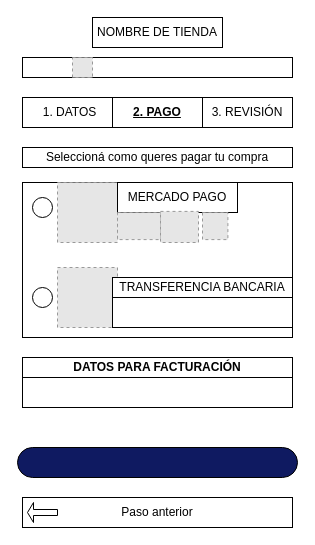
Image size: 315x545. Some labels were removed from this diagram. Grey dashed boxes stand in for pictures. The shapes that lost their labels are listed below. From the top down, each one's box as (x1, y1, x2, y2) in pixels, then its label:
(22, 56, 292, 78): VER MI COMPRA
(112, 296, 292, 328): Al finalizar te mostraremos los datos bancarios para pagar
(22, 376, 292, 408): Utilizar mis datos de envío como datos de facturación
(16, 446, 298, 478): Siguiente
